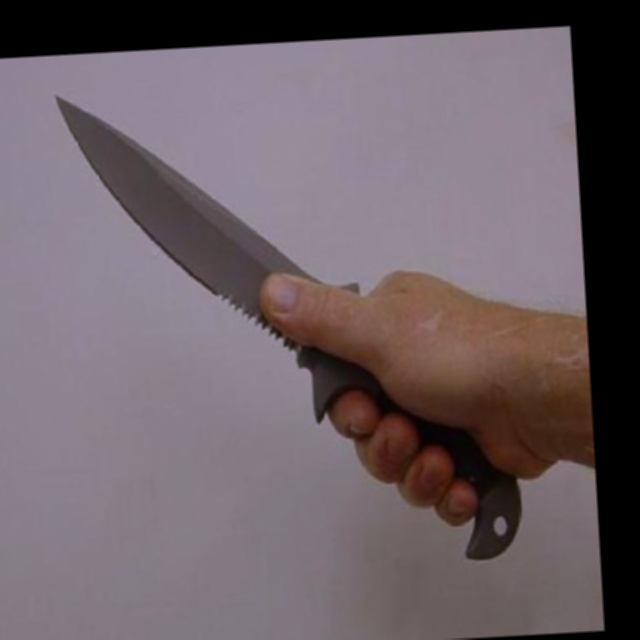Sharp-Object: (54, 68, 524, 582)
